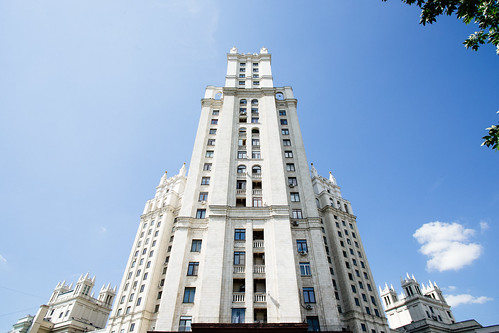medium: (115, 43, 394, 333)
